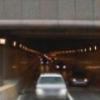cars: (34, 72, 70, 100)
